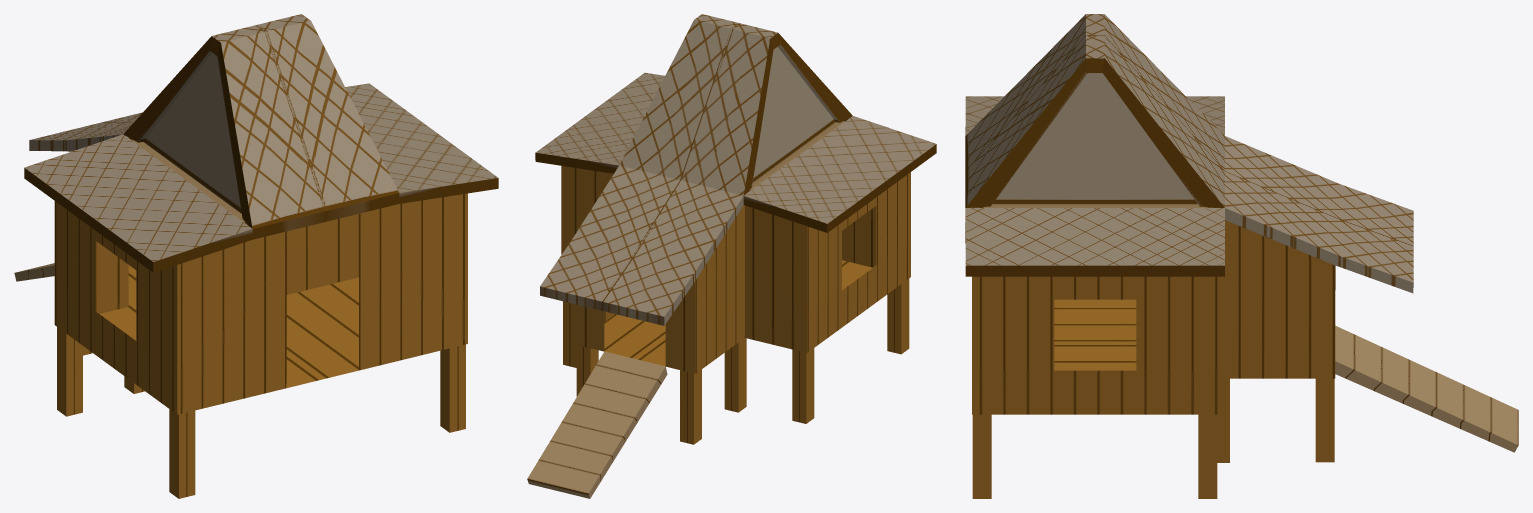
File: rumah bubungan.fbx
3 renders of one model, left to right at view 1: azimuth 30°, elevation 25°; view 2: azimuth 150°, elevation 25°; view 3: azimuth 270°, elevation 25°, orthographic. The views are drawn at different scales.
Visible parts, largest first — view 1: Cube.027; view 2: Cube.027; view 3: Cube.027.
Boxes of the visible parts, x1,y1,x2,y2 form: Cube.027: (14,14,498,498); Cube.027: (527,14,936,498); Cube.027: (965,14,1518,498).
Size of the model in its own units: 1097 by 1207 by 1517.
Materials: 1 (1 with a texture image).
